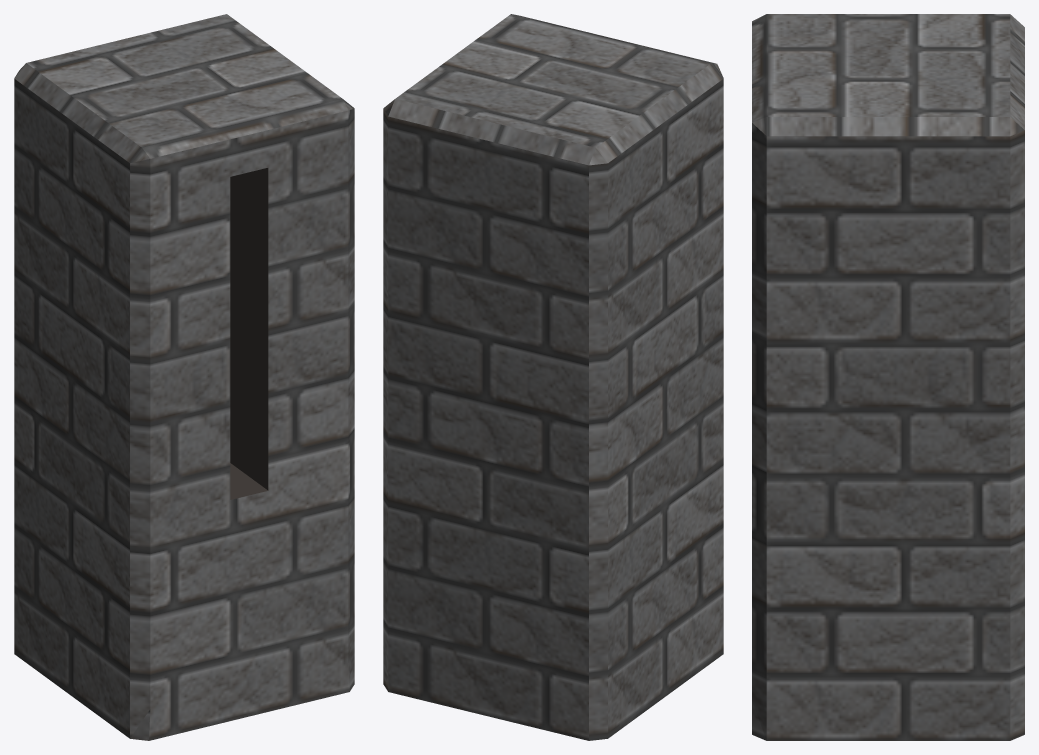
Rendered from turret_stones.glb.
The picture shows the model from 3 angles, left to right: view 1: azimuth 30°, elevation 25°; view 2: azimuth 150°, elevation 25°; view 3: azimuth 270°, elevation 25°; orthographic projection. The views are drawn at different scales.
Parts seen in each view (by area): view 1: Cube; view 2: Cube; view 3: Cube.
Boxes of the visible parts, bbox=[...] form: Cube: bbox=[14, 14, 354, 740]; Cube: bbox=[383, 14, 723, 740]; Cube: bbox=[752, 14, 1024, 740].
Size of the model in its own units: 2 by 5 by 2.
Materials: 1 (1 with a texture image).
